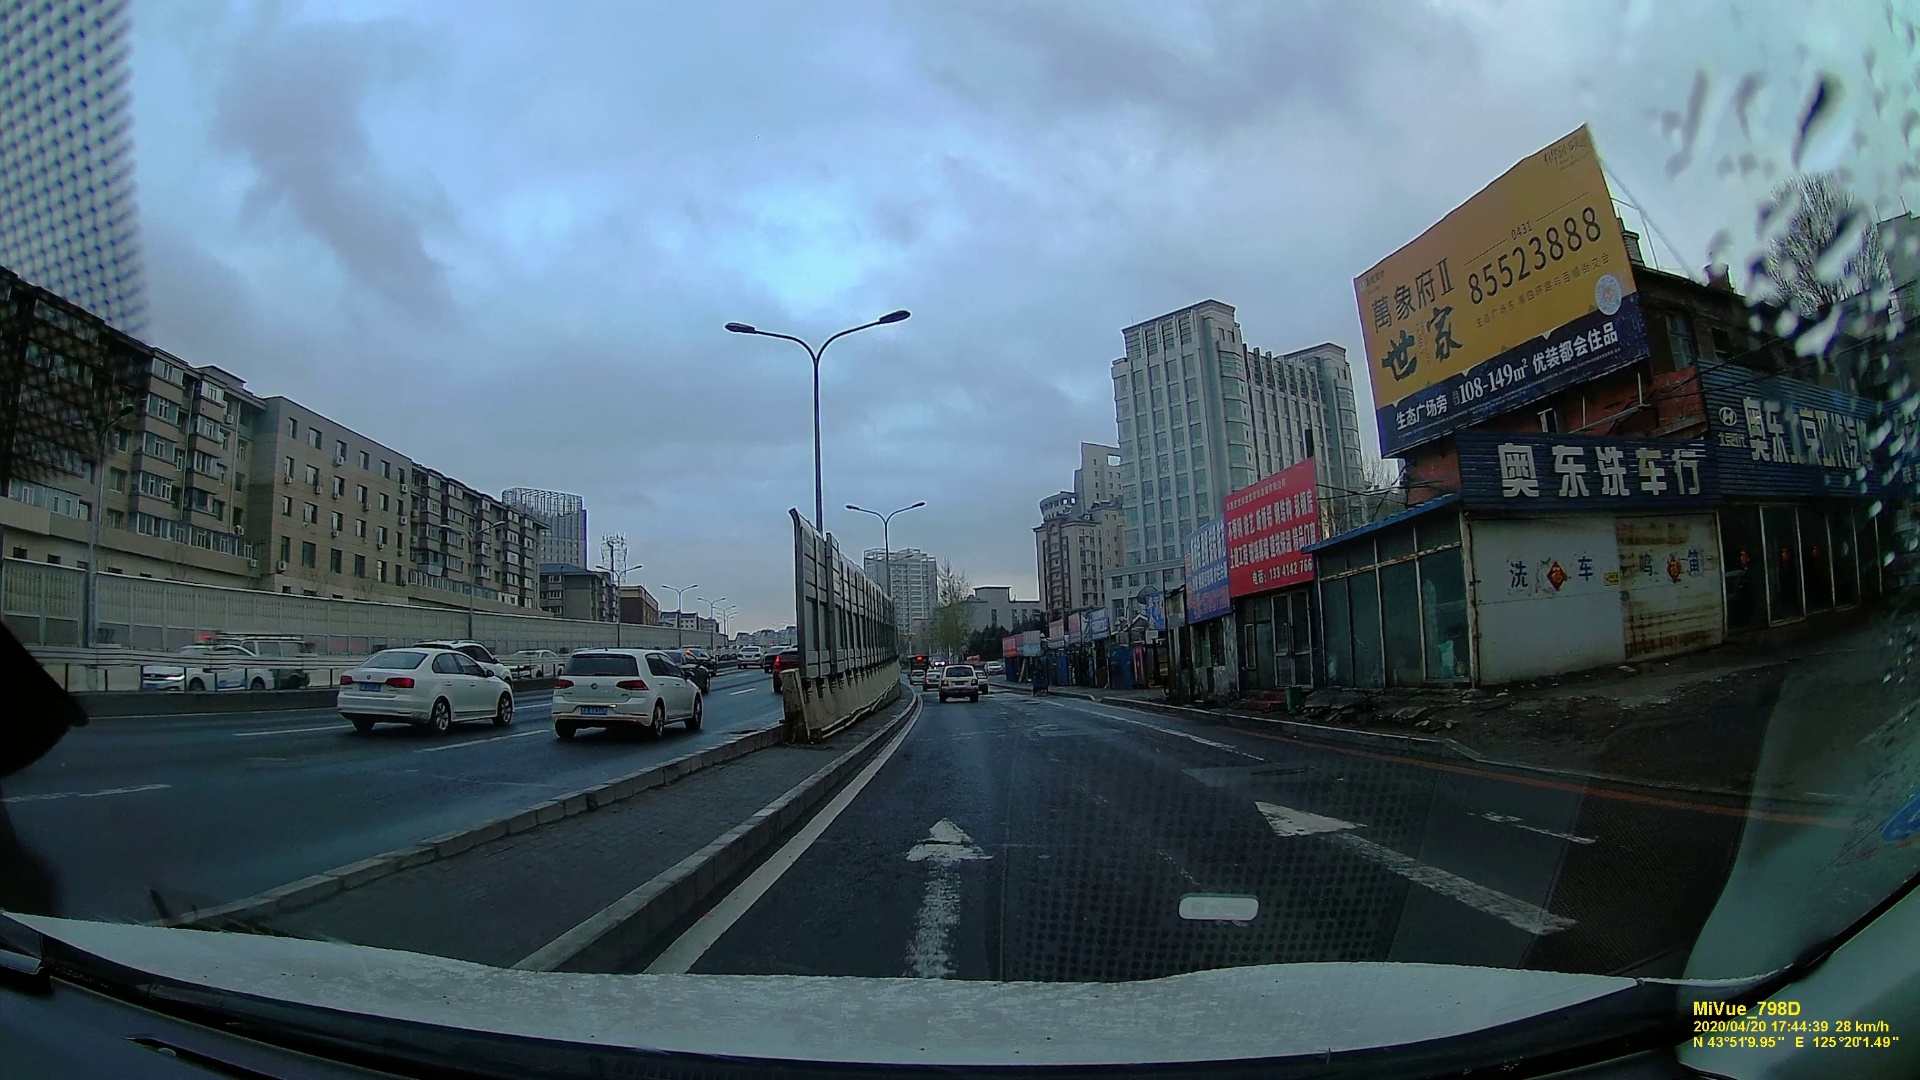vehicle: (335, 642, 512, 733), (549, 649, 702, 741), (138, 647, 262, 702), (931, 665, 982, 702)
